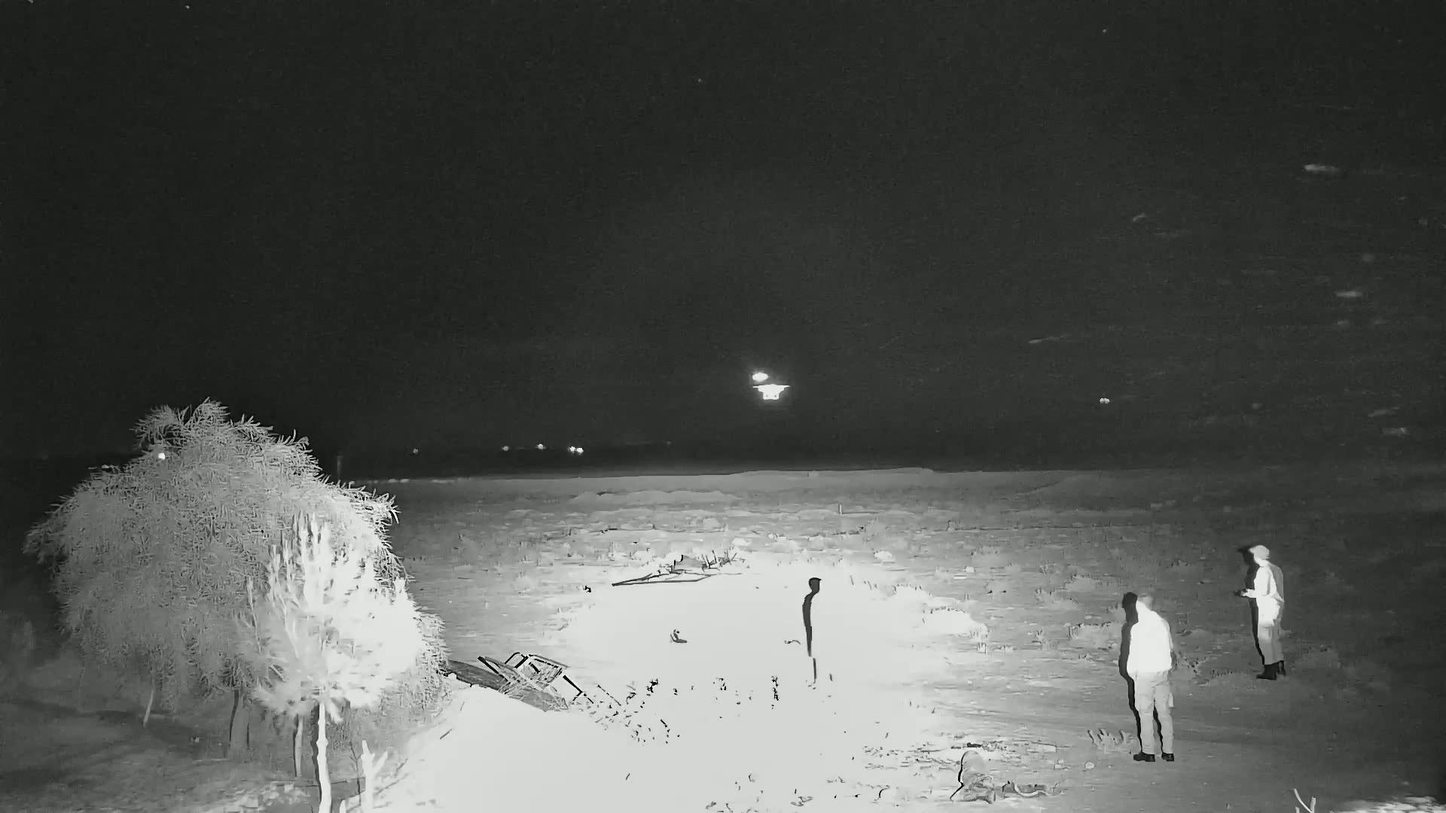DJI-Phantom: (757, 386, 792, 404), (750, 365, 771, 390)
